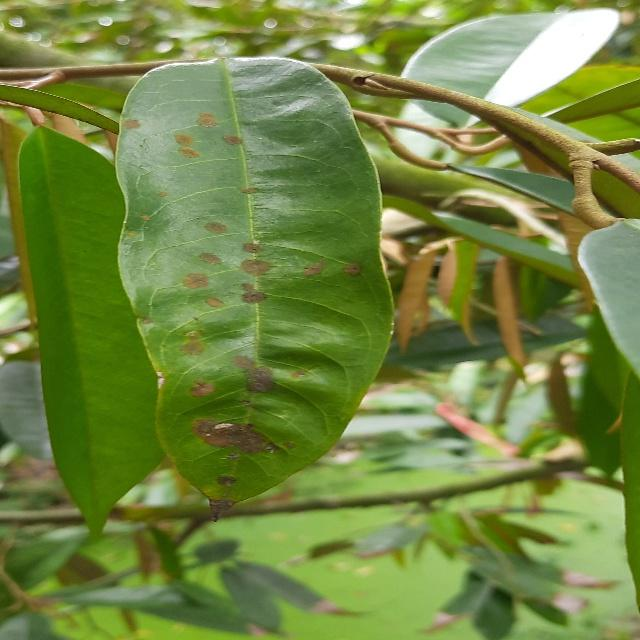Algal Leaf Spot: (105, 49, 405, 535)
